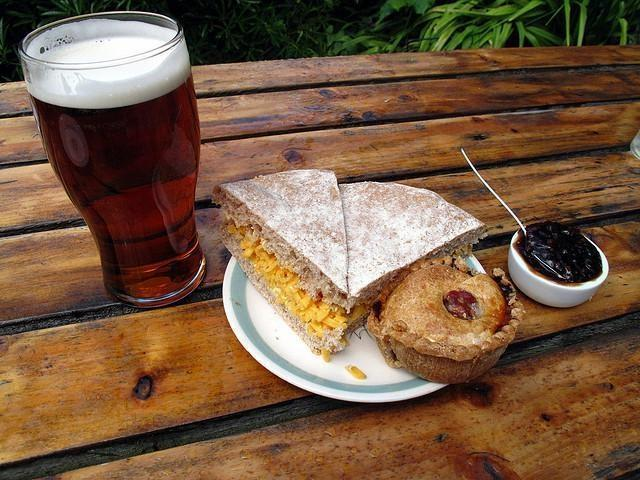glass-normal: (18, 9, 208, 306)
